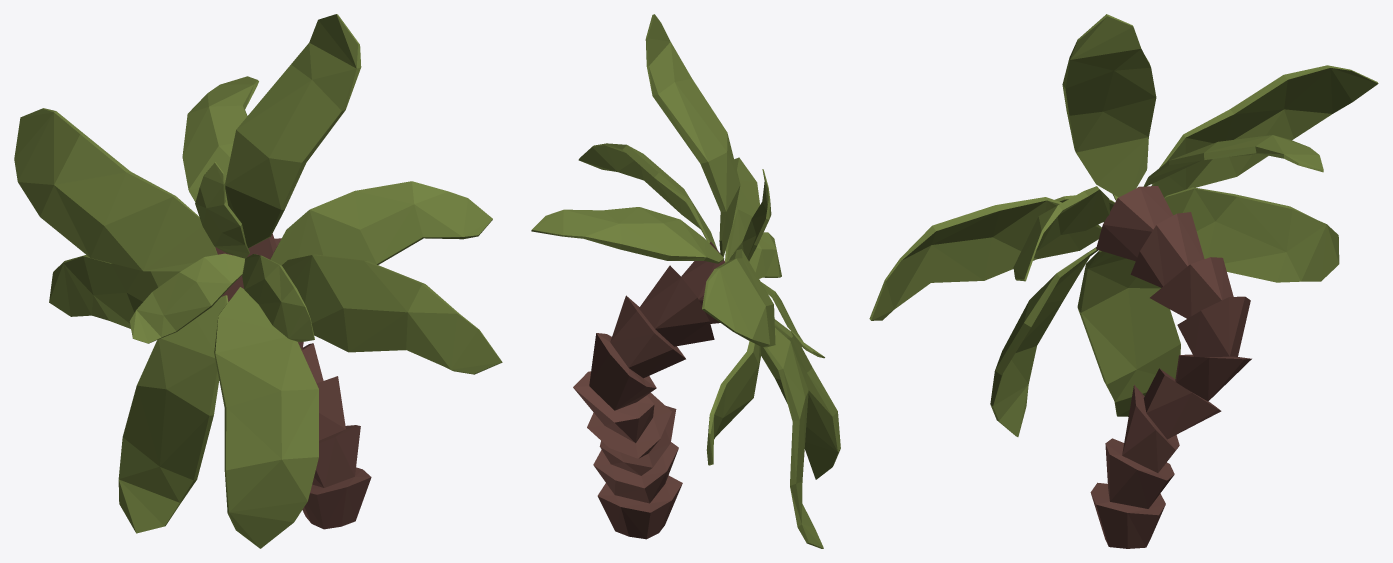
The model's file is Palm_2.fbx.
3 views of the same model, side by side, from view 1: azimuth 30°, elevation 25°; view 2: azimuth 150°, elevation 25°; view 3: azimuth 270°, elevation 25° (orthographic). The views are drawn at different scales.
Visible parts, largest first — view 1: Palm_2; view 2: Palm_2; view 3: Palm_2.
Boxes of the visible parts, x1,y1,x2,y2 form: Palm_2: (14, 14, 502, 548); Palm_2: (531, 14, 840, 548); Palm_2: (869, 14, 1378, 548).
Size of the model in its own units: 2249 by 3394 by 2990.
